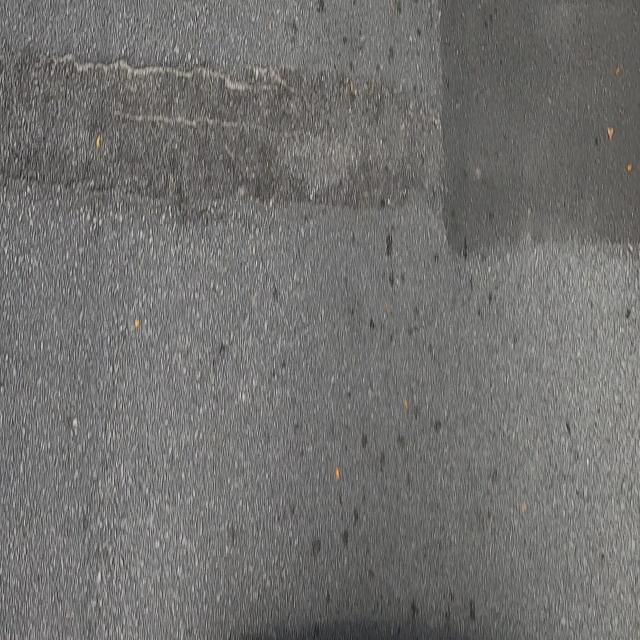Retak-Melintang: (48, 48, 281, 99), (116, 105, 308, 134)
